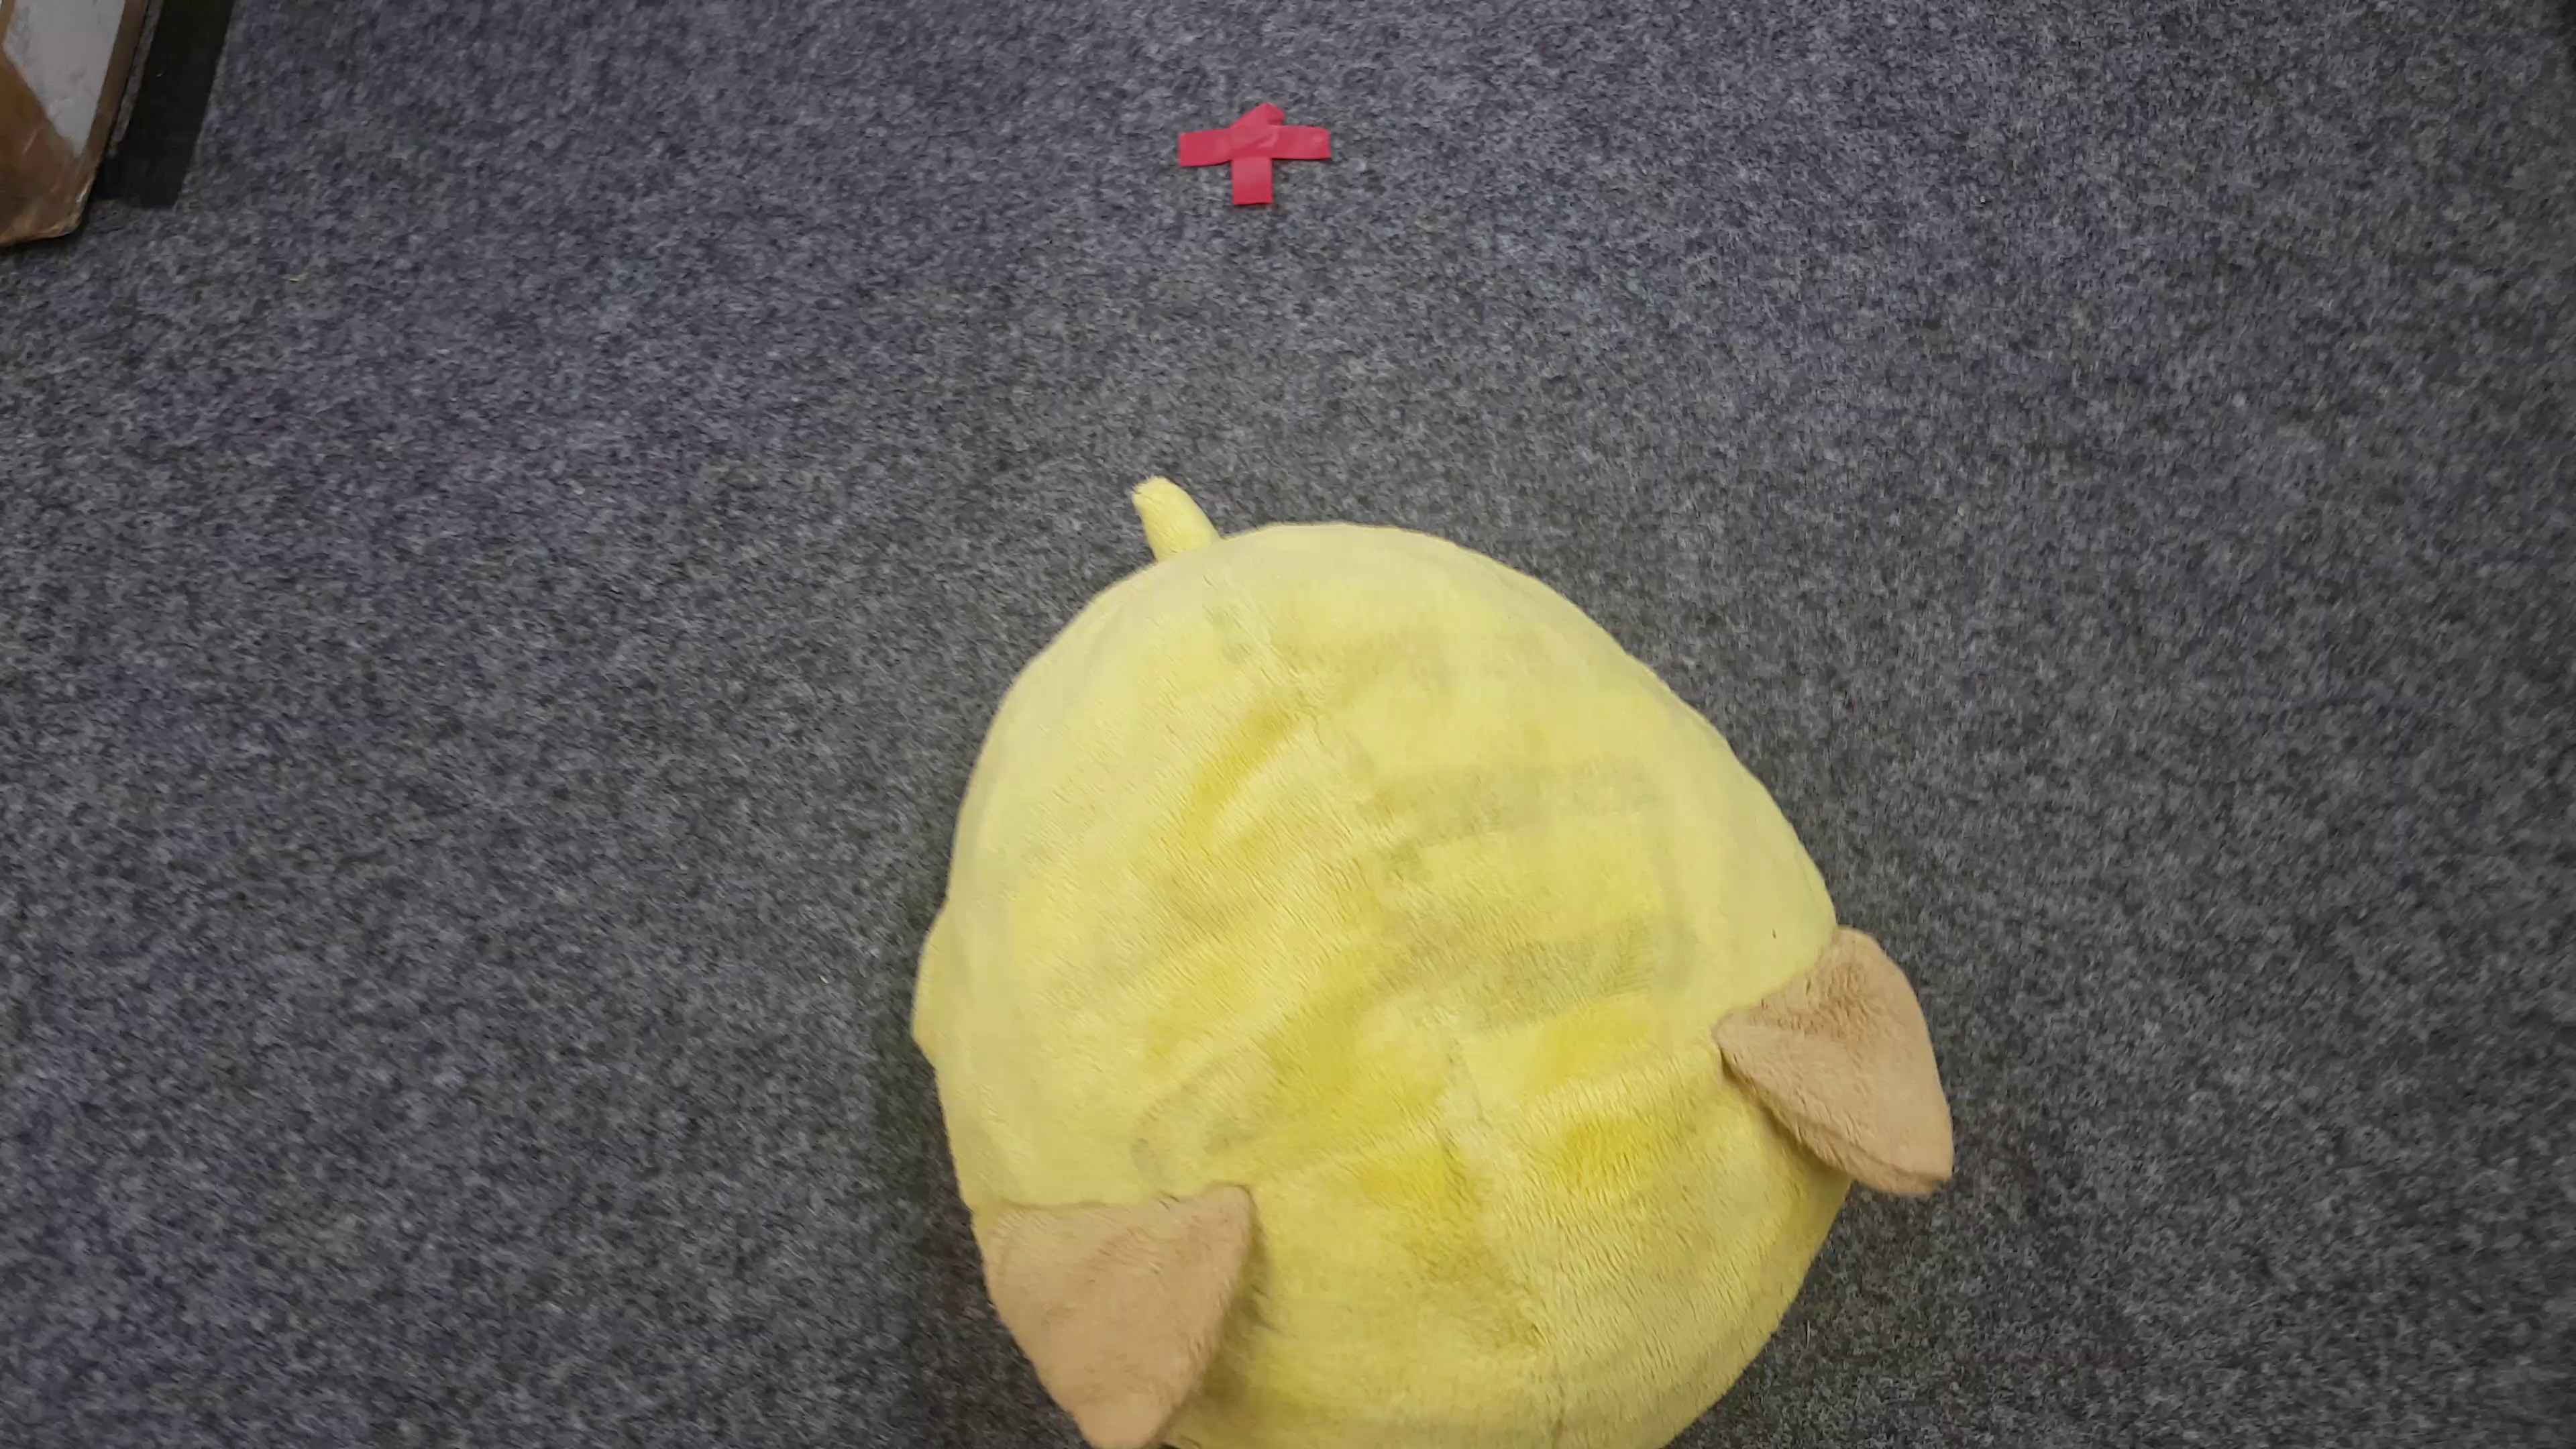grasp: (918, 478, 1960, 1449)
